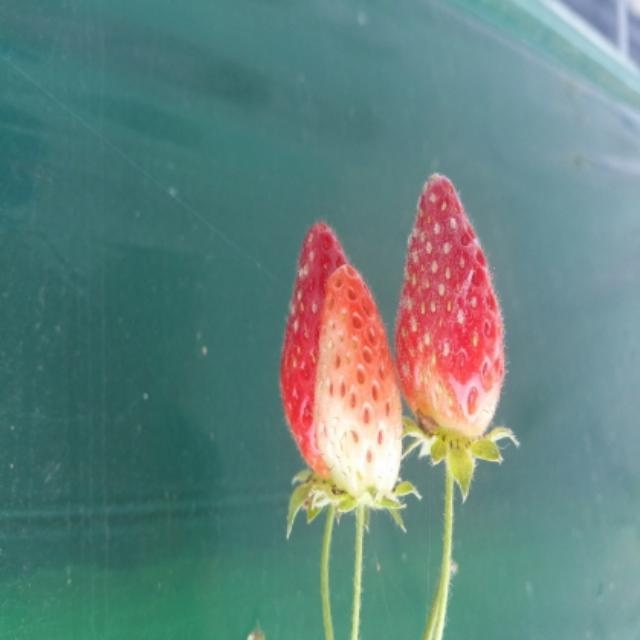Powdery Mildew Fruit: (280, 221, 404, 508), (393, 170, 505, 453)
